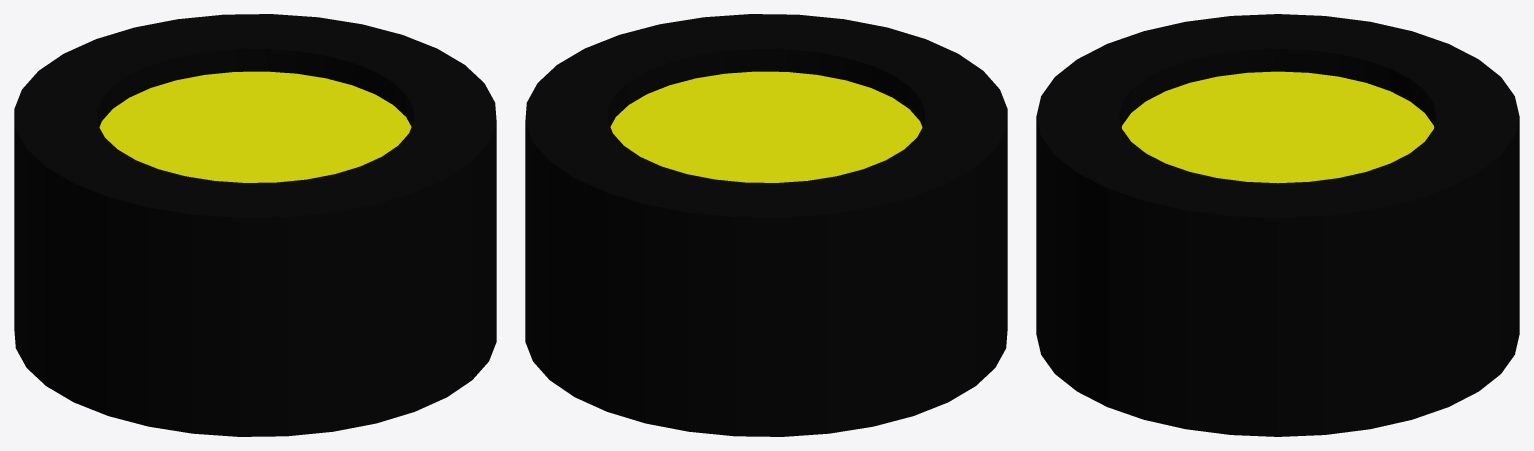
File: wheel.fbx
3 renders of one model, left to right at view 1: azimuth 30°, elevation 25°; view 2: azimuth 150°, elevation 25°; view 3: azimuth 270°, elevation 25°, orthographic.
Parts seen in each view (by area): view 1: 圓柱體, 圓柱體.001; view 2: 圓柱體, 圓柱體.001; view 3: 圓柱體, 圓柱體.001.
Part boxes in pixels (x1=…): 圓柱體: x1=14, y1=14, x2=496, y2=436; 圓柱體.001: x1=99, y1=71, x2=411, y2=182; 圓柱體: x1=525, y1=14, x2=1007, y2=436; 圓柱體.001: x1=610, y1=71, x2=922, y2=182; 圓柱體: x1=1036, y1=14, x2=1519, y2=436; 圓柱體.001: x1=1121, y1=71, x2=1434, y2=183.
Bounding box in the file's own units: 200 × 100 × 200.
